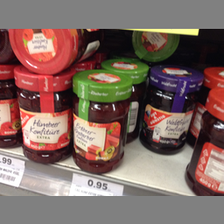jam: (72, 70, 134, 175), (139, 62, 204, 155), (14, 67, 73, 165), (8, 29, 105, 75), (186, 87, 224, 196)
